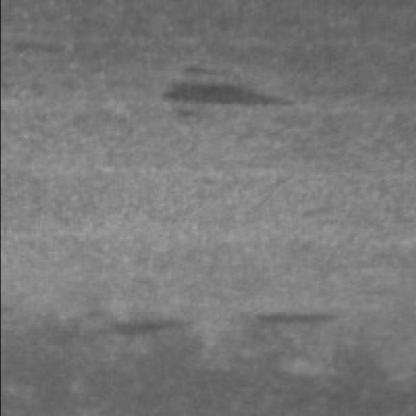inclusion: (146, 75, 302, 125), (60, 310, 202, 356), (239, 302, 345, 341)
